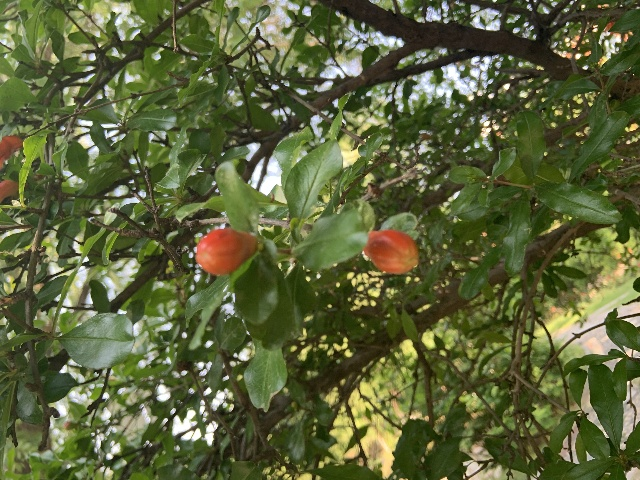bud: (195, 227, 257, 275), (363, 229, 419, 273)
